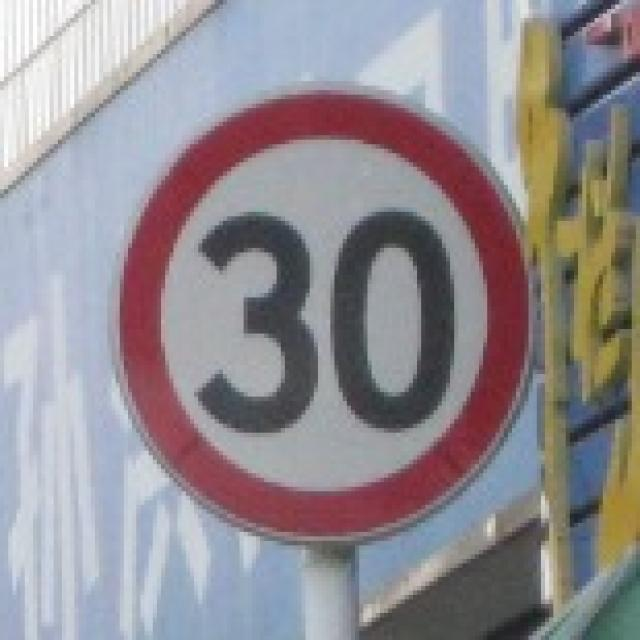Speed Limit -30-: (192, 209, 459, 435)
